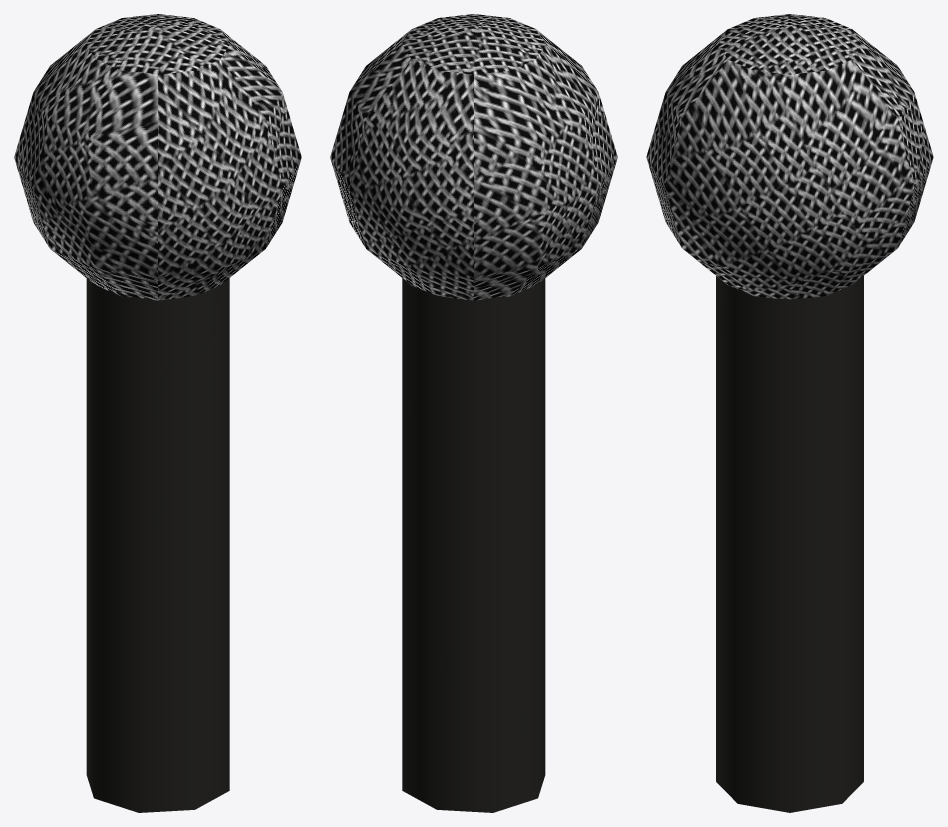
File: microphone.FBX
3 views of the same model, side by side, from view 1: azimuth 30°, elevation 25°; view 2: azimuth 150°, elevation 25°; view 3: azimuth 270°, elevation 25° (orthographic).
Parts seen in each view (by area): view 1: Cylinder001, Sphere001; view 2: Cylinder001, Sphere001; view 3: Cylinder001, Sphere001.
Boxes of the visible parts, left/top/right/bottom form: Cylinder001: left=86, top=278, right=229, bottom=812; Sphere001: left=14, top=14, right=301, bottom=300; Cylinder001: left=402, top=278, right=545, bottom=812; Sphere001: left=330, top=14, right=617, bottom=300; Cylinder001: left=716, top=276, right=863, bottom=812; Sphere001: left=646, top=14, right=933, bottom=299.
Bounding box in the file's own units: 1.33 × 3.84 × 1.33.
1 material, 1 textured.
